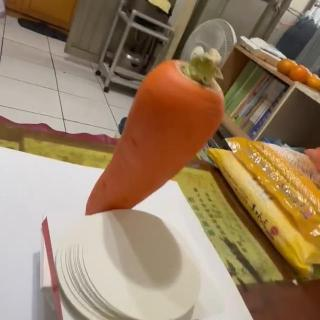carrot: (84, 49, 228, 217)
